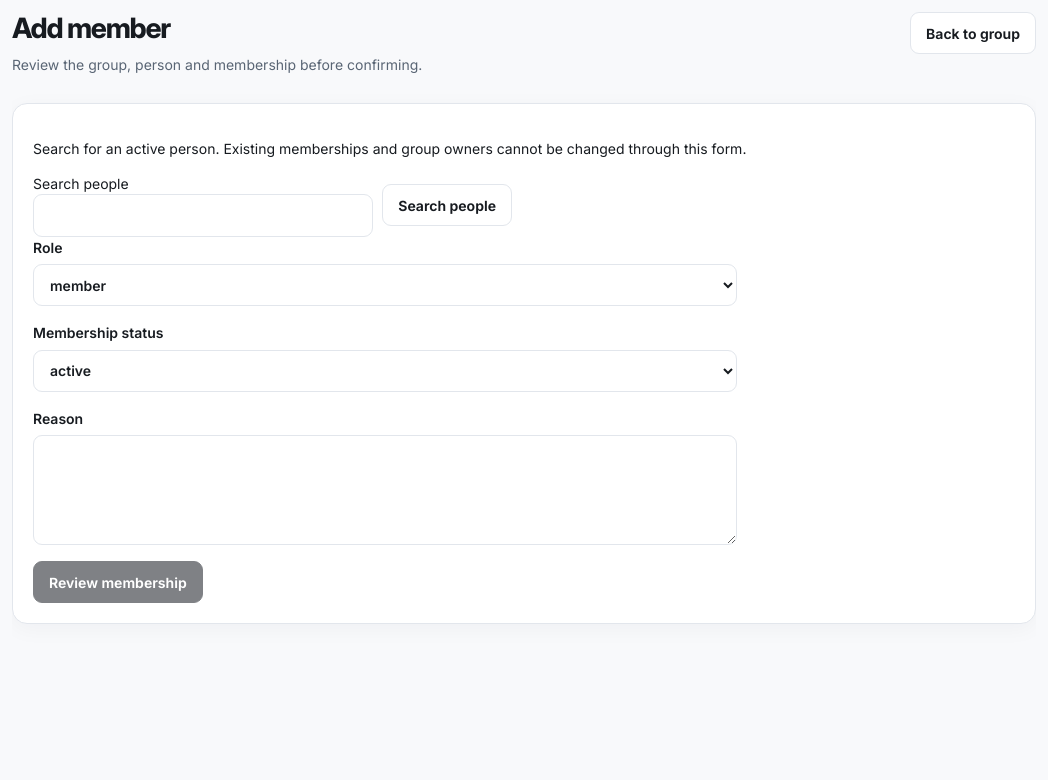
Test: legacy membership pages › reviews a searched person and sends the exact membership creation only after confirmation
This screenshot has width=1048, height=780.
Type "Recorded" into the field labelled "Search people" at (203, 216), box [33,194,373,237]
Click the button "Search people" at (447, 205), box [382,184,512,226]
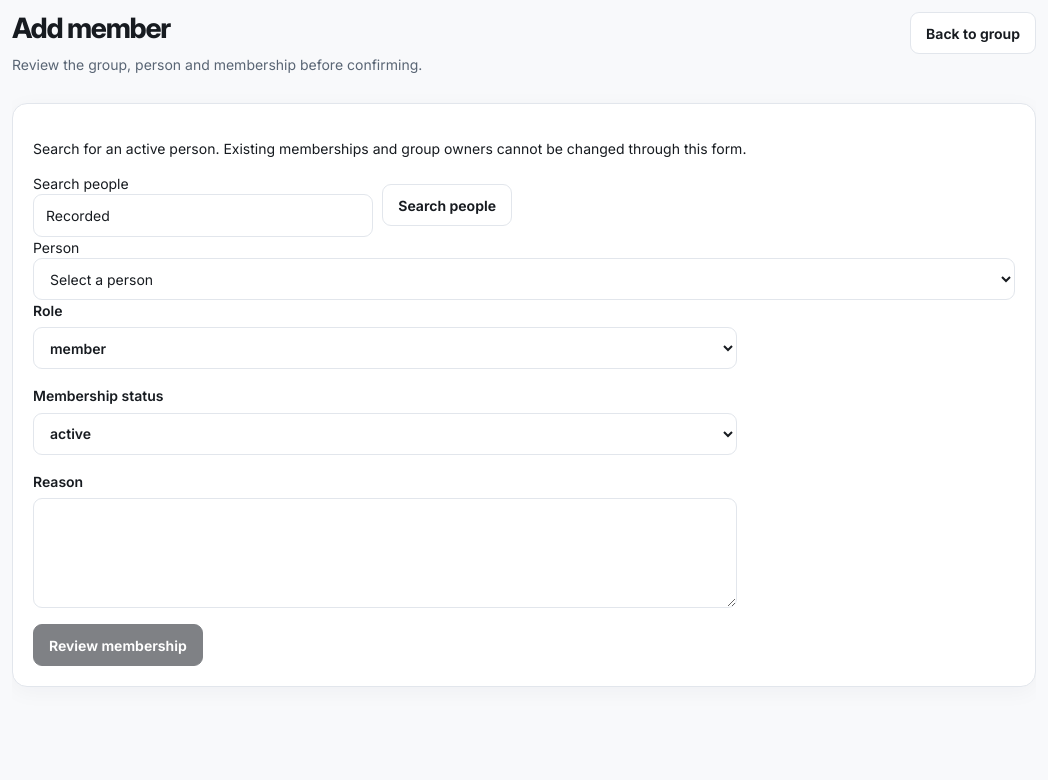
Select "Recorded Person · 123456" in the dropdown labelled "Person" at (524, 279), box [33,258,1015,300]
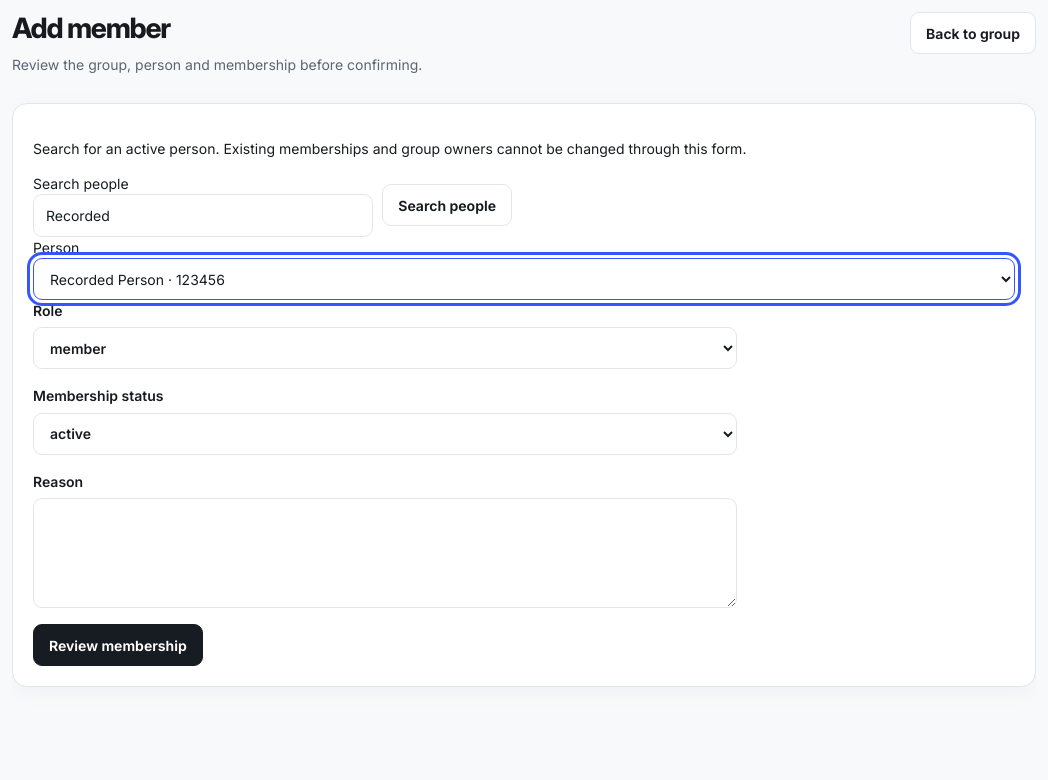
Type "Review membership creation" into the text box labelled "Reason" at (385, 553), box [33,498,737,608]
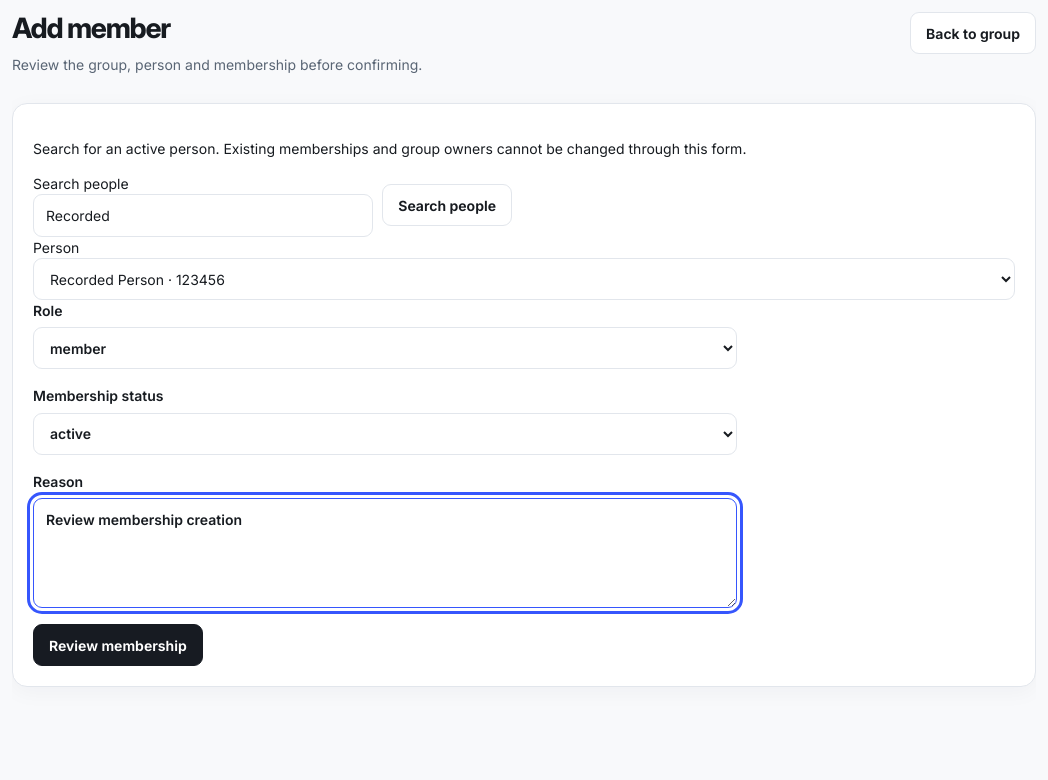
Click the button "Review membership" at (118, 645), box [33,624,203,666]
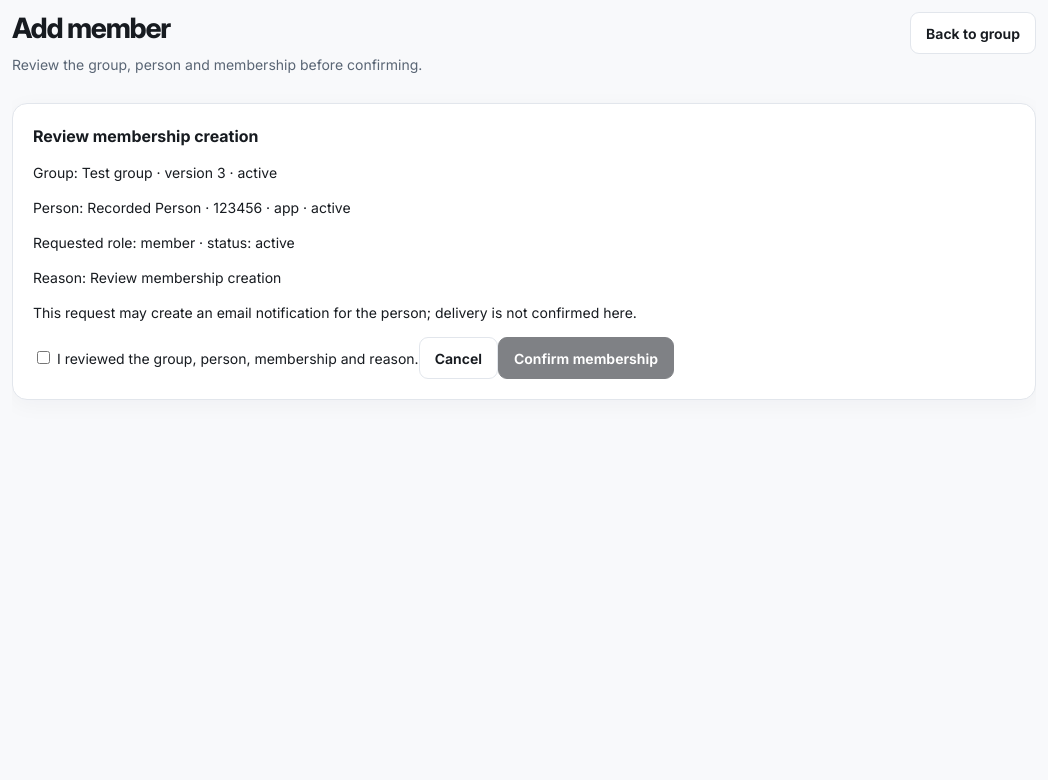
Result: the text "Person: Recorded Person · 123456 · app · active" is shown at [33,199,351,216]
Result: the button "Confirm membership" is disabled at [498,337,674,379]
Click the checkbox labelled "I reviewed the group, person, membership and reason." at (44, 357), box [37,350,50,364]
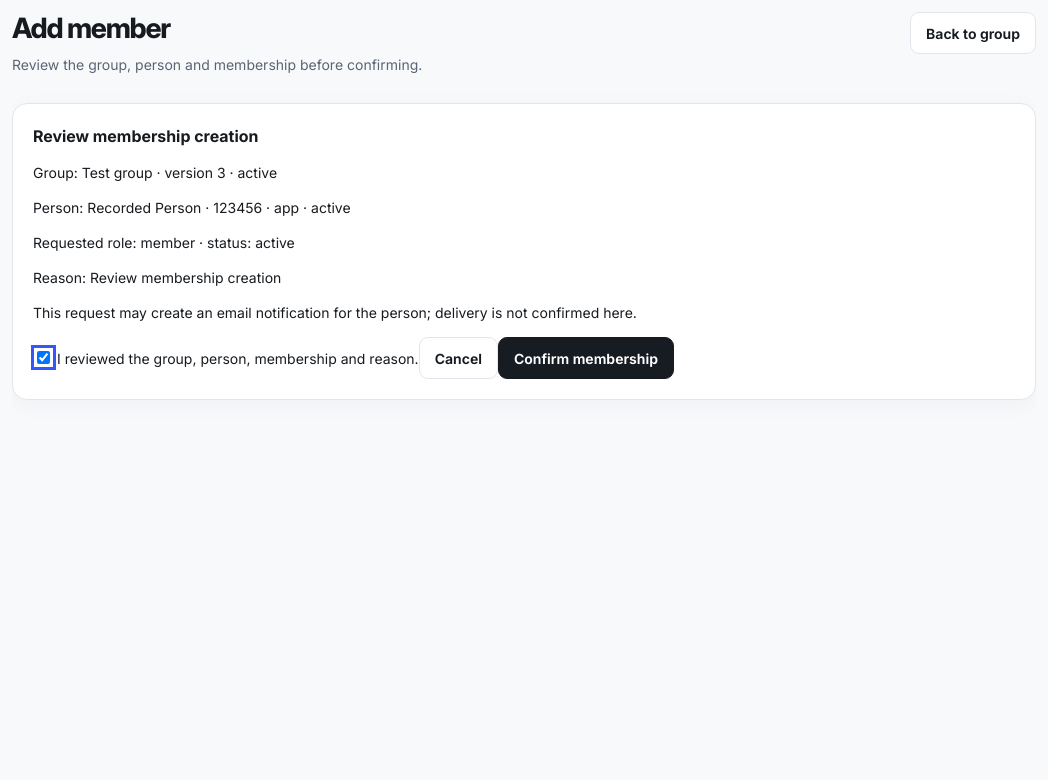
Click the button "Confirm membership" at (586, 358), box [498,337,674,379]
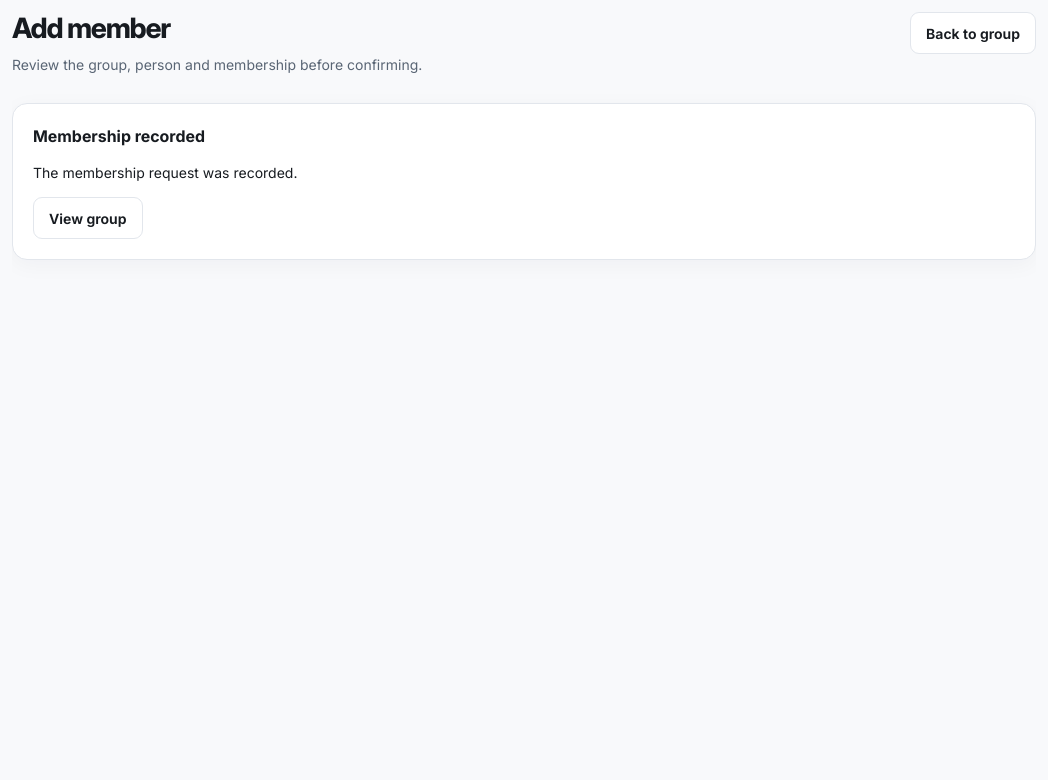
Result: the text "The membership request was recorded." is shown at [33,164,297,181]
